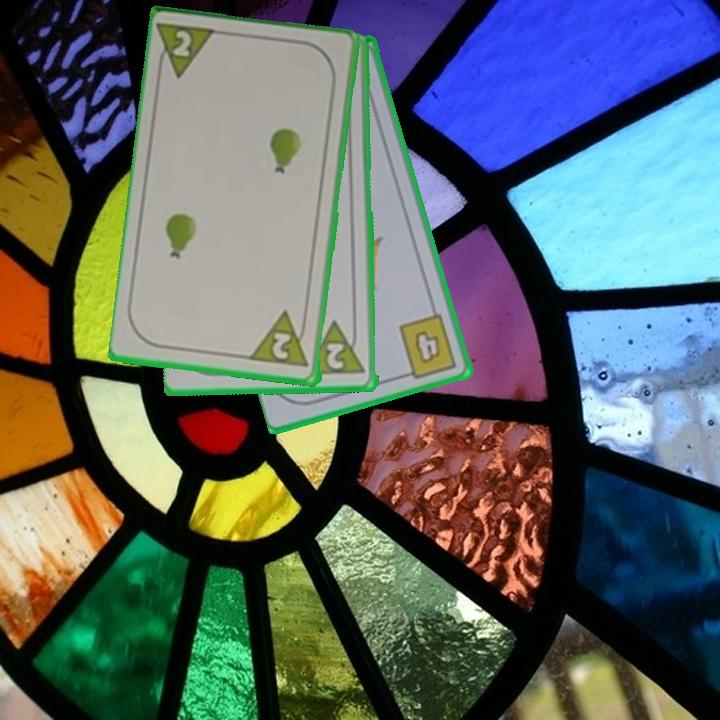2p: (154, 19, 222, 83), (249, 308, 312, 371), (304, 318, 369, 378)
4b: (395, 310, 460, 382)
